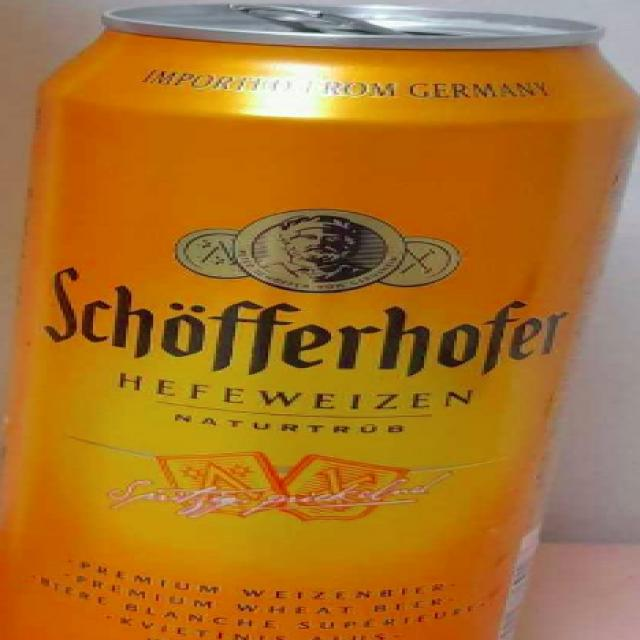Schofferhofer Weizen: (2, 0, 640, 640)
